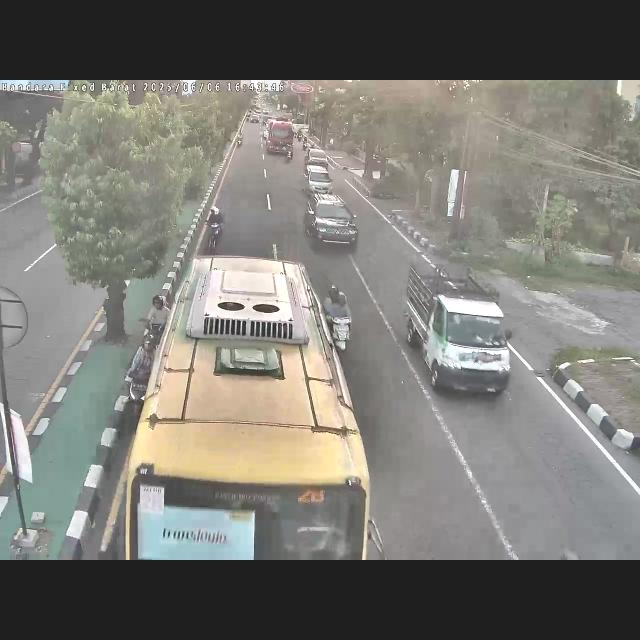Bis: (120, 248, 378, 560)
Mobil: (404, 258, 518, 406), (302, 191, 360, 257), (302, 164, 334, 200)
Motor: (124, 332, 166, 426), (137, 291, 173, 367), (322, 280, 354, 364), (204, 203, 228, 254)
